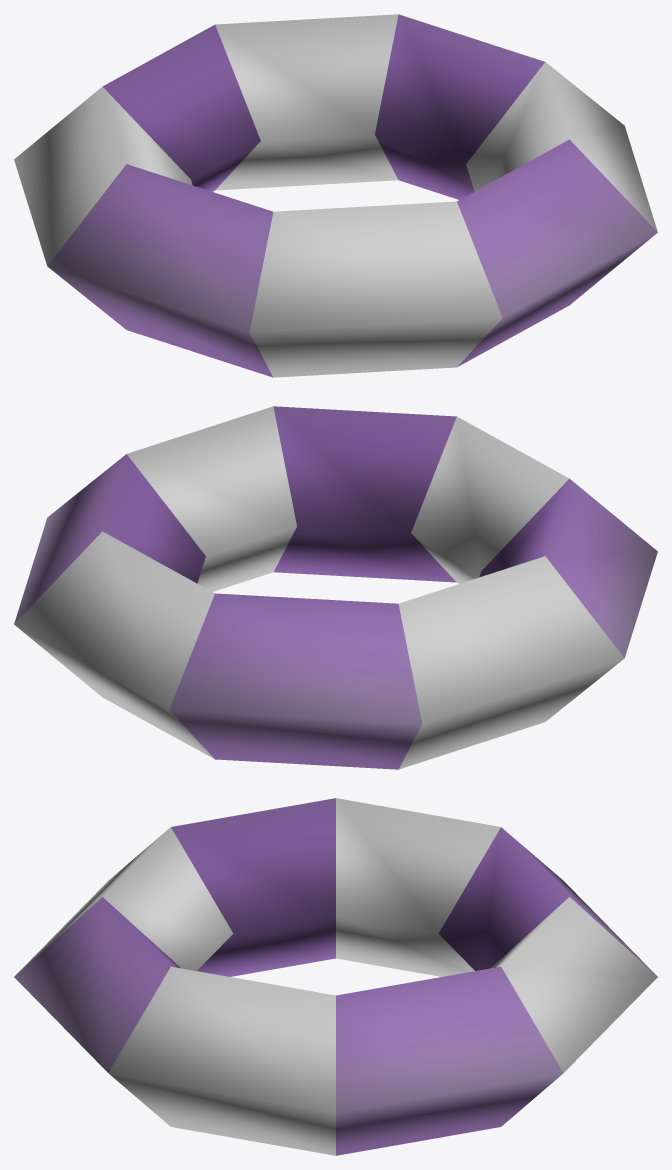
File: RubbeRing_07.FBX
3 views of the same model, one above another, from view 1: azimuth 30°, elevation 25°; view 2: azimuth 150°, elevation 25°; view 3: azimuth 270°, elevation 25° (orthographic). The views are drawn at different scales.
Parts seen in each view (by area): view 1: RubbeRing_07; view 2: RubbeRing_07; view 3: RubbeRing_07.
Part boxes in pixels (box(x1,y1,x2,y2)): RubbeRing_07: box(14, 14, 657, 377); RubbeRing_07: box(14, 406, 657, 769); RubbeRing_07: box(14, 798, 657, 1155).
Size of the model in its own units: 0.4881 by 0.4881 by 0.1341.
